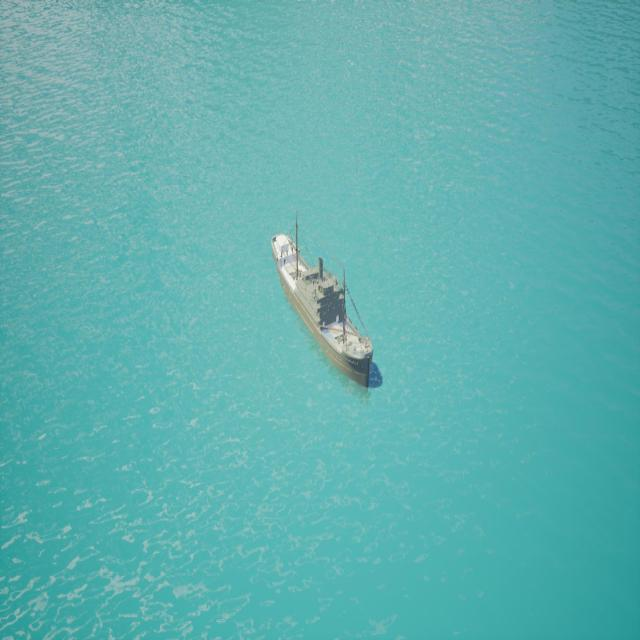fishing ship: (271, 234, 377, 392)
